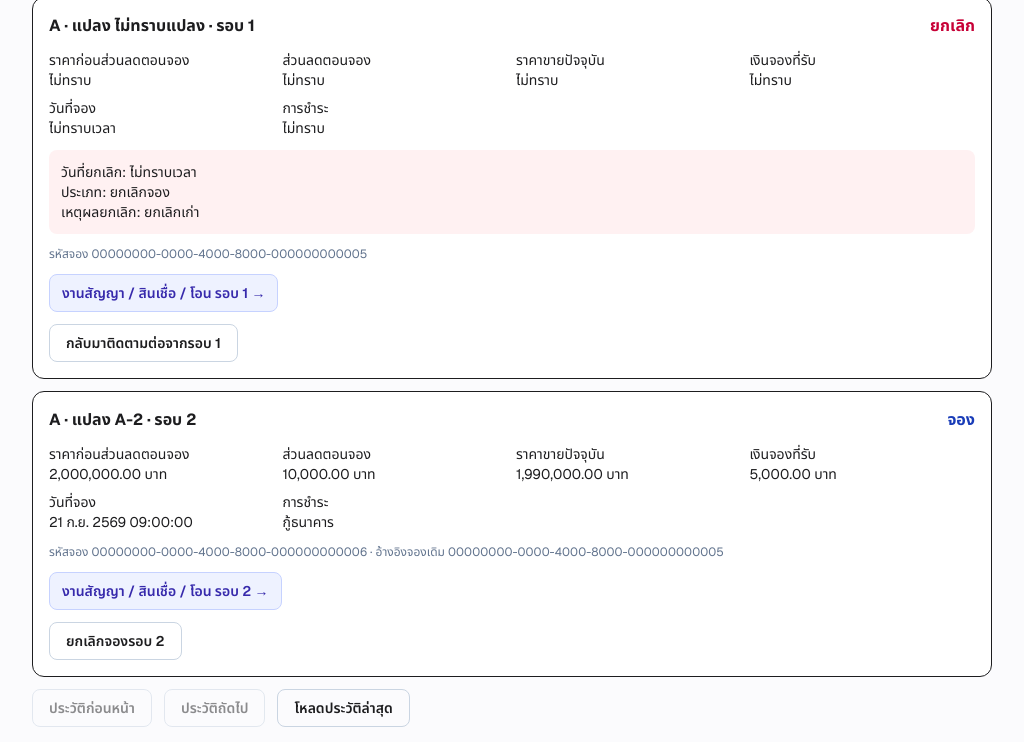
Test: central booking workspace › exposes post-booking links per round and hides them while cancellation outcome is uncertain
(page scrolled)
Expected: the number of links "งานสัญญา / สินเชื่อ / โอน รอบ 1 →" is 2, [49, 274, 278, 312]; [49, 572, 282, 610]
Click the button "ยกเลิกจองรอบ 2" at [115, 641], box [49, 622, 182, 660]
(page scrolled)
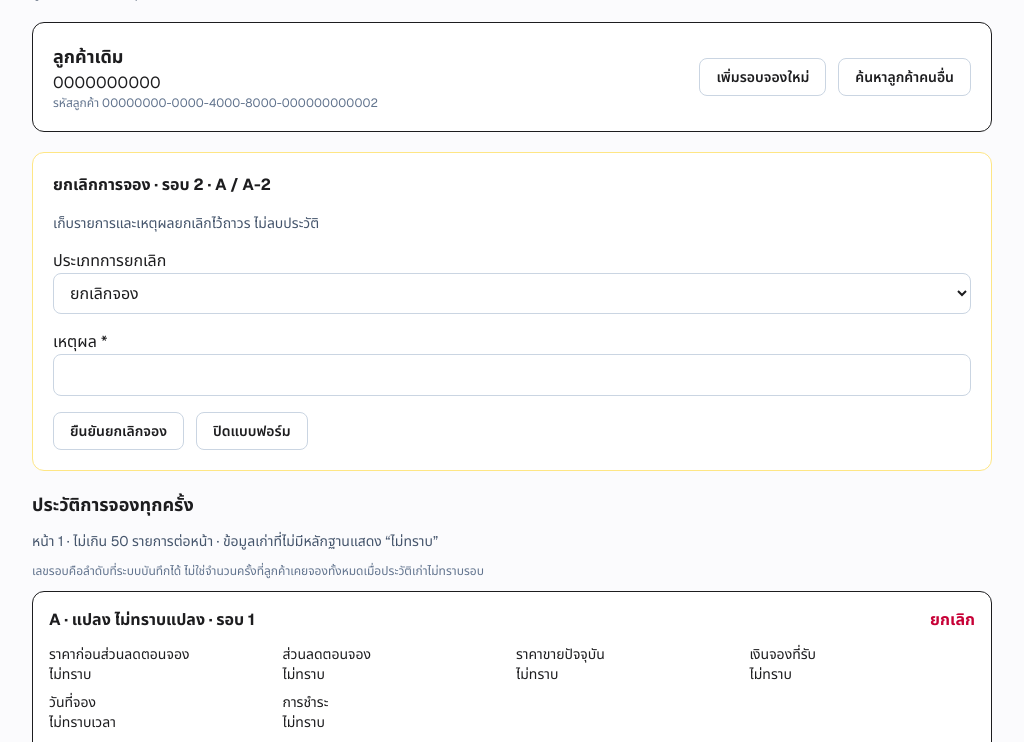
Type "ลูกค้าขอยกเลิก" into the field labelled "เหตุผล *" at [512, 375], box [53, 354, 971, 396]
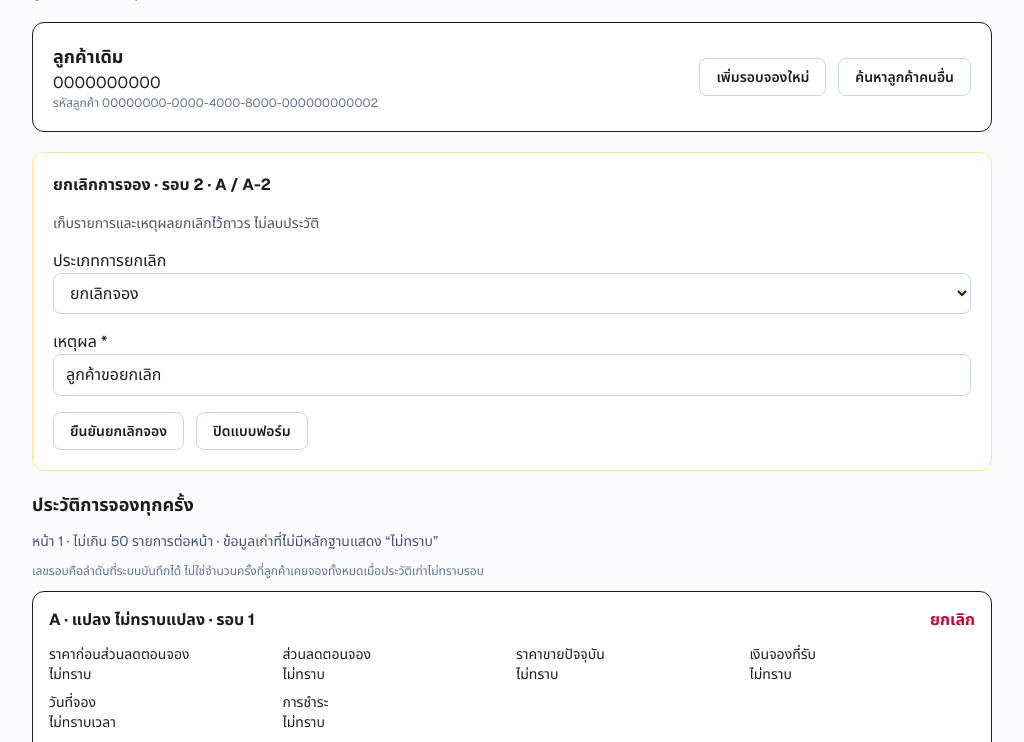
Submit the form "ยกเลิกการจอง", box [32, 152, 992, 471]
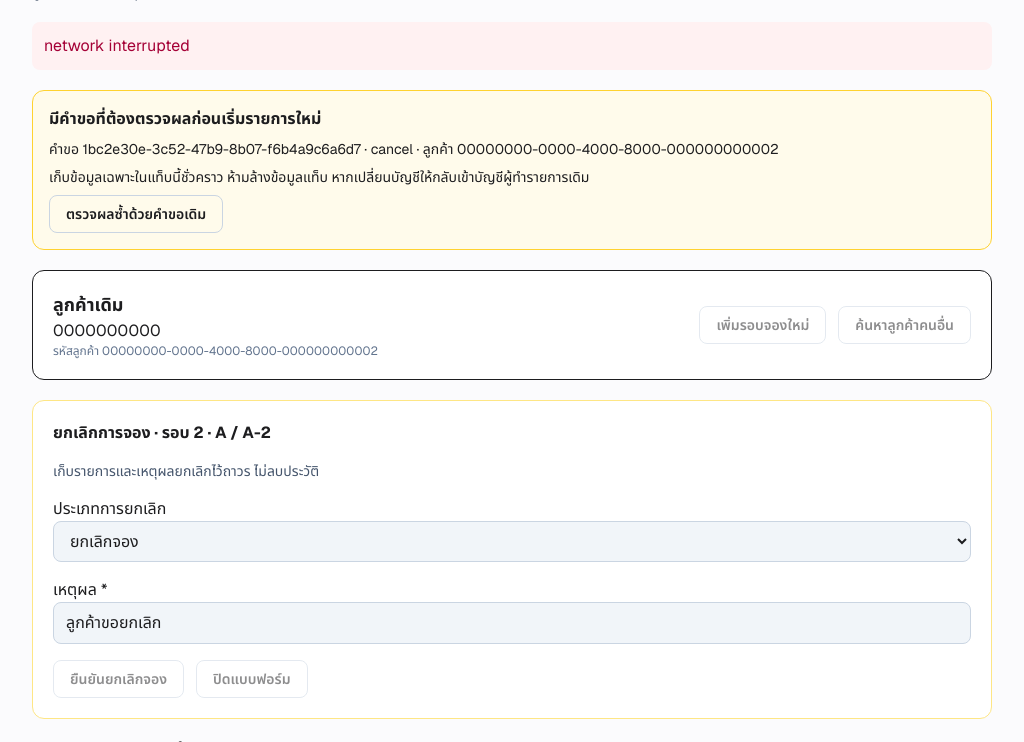
Expected: the link "งานสัญญา" is not shown
Now the message "network interrupted" is shown, box [32, 22, 992, 70]
